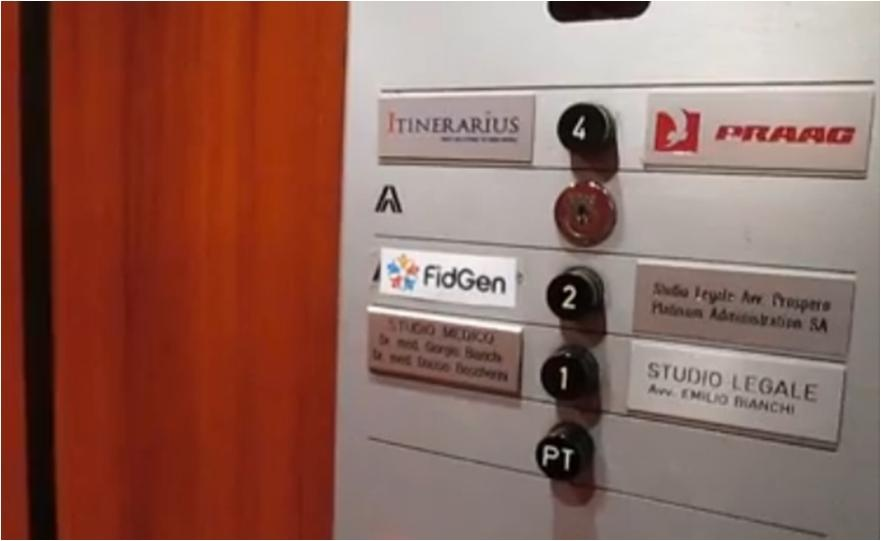1: (539, 344, 601, 408)
2: (543, 263, 608, 329)
4: (556, 97, 618, 161)
P1: (535, 420, 597, 484)
keyhole: (551, 175, 622, 250)
